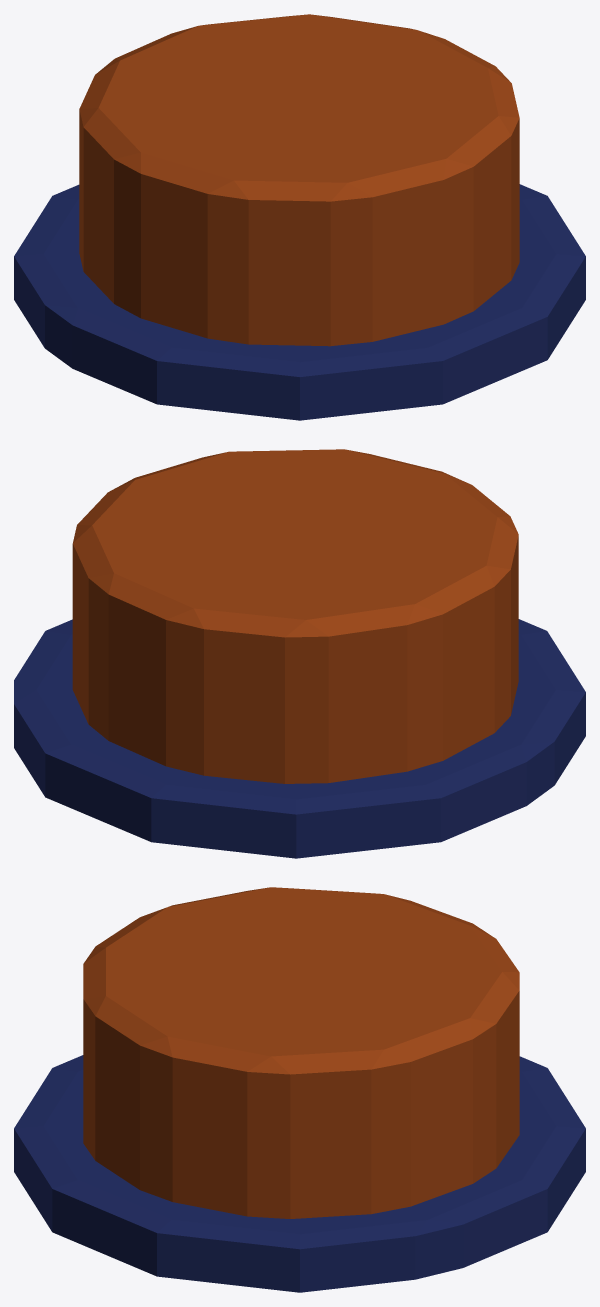
File: Button.fbx
The picture shows the model from 3 angles, top to bottom: view 1: azimuth 30°, elevation 25°; view 2: azimuth 150°, elevation 25°; view 3: azimuth 270°, elevation 25°; orthographic projection.
Parts seen in each view (by area): view 1: Cylinder.001; view 2: Cylinder.001; view 3: Cylinder.001.
Boxes of the visible parts, left/top/right/bottom form: Cylinder.001: left=14, top=14, right=585, bottom=420; Cylinder.001: left=14, top=449, right=585, bottom=858; Cylinder.001: left=14, top=887, right=585, bottom=1292.
Bounding box in the file's own units: 82.43 × 83.51 × 32.62.
